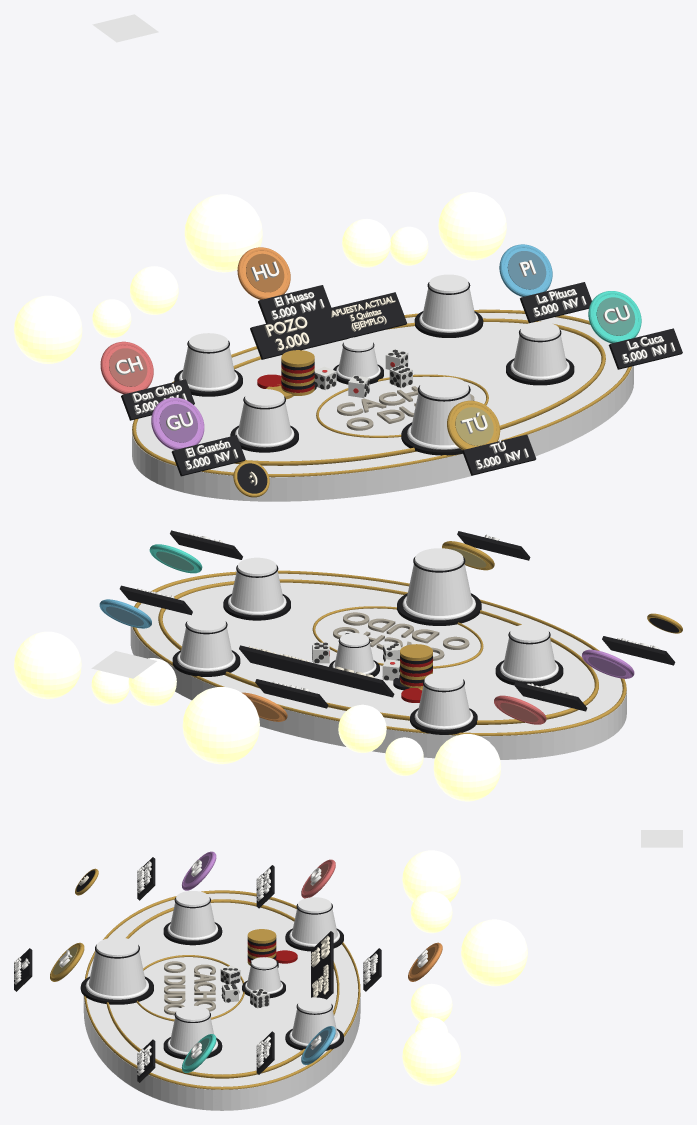
File: mesa_cacho.glb
3 views of the same model, one above another, from view 1: azimuth 30°, elevation 25°; view 2: azimuth 150°, elevation 25°; view 3: azimuth 270°, elevation 25° (orthographic). The views are drawn at different scales.
Parts seen in each view (by area): view 1: Pano, MesaMadera, Lampara2, PlacaPozo, Lampara0, Lampara4, Vaso_TU, Vaso_LaCuca, Vaso_ElGuaton, Vaso_LaPituca, Vaso_DonChalo, FileteDoradoPano (+23 smaller); view 2: Pano, MesaMadera, Lampara2, Lampara4, Lampara0, Vaso_TU, FileteDoradoBorde, FileteDoradoPano, Vaso_LaCuca, Vaso_DonChalo, Vaso_ElGuaton, Vaso_LaPituca (+27 smaller); view 3: Pano, MesaMadera, Lampara2, Lampara4, Vaso_TU, Lampara0, FileteDoradoBorde, Vaso_ElGuaton, Vaso_DonChalo, FileteDoradoPano, LogoCachoODudo, Vaso_LaPituca (+8 smaller).
Boxes of the visible parts, left/top/right/bottom form: Pano: left=192, top=322, right=601, bottom=461; MesaMadera: left=132, top=313, right=633, bottom=501; Lampara2: left=184, top=194, right=262, bottom=272; PlacaPozo: left=250, top=292, right=407, bottom=359; Lampara0: left=14, top=295, right=82, bottom=363; Lampara4: left=438, top=192, right=506, bottom=260; Vaso_TU: left=410, top=376, right=471, bottom=445; Vaso_LaCuca: left=513, top=322, right=566, bottom=376; Vaso_ElGuaton: left=238, top=389, right=291, bottom=443; Vaso_LaPituca: left=422, top=274, right=475, bottom=329; Vaso_DonChalo: left=182, top=333, right=235, bottom=387; FileteDoradoPano: left=233, top=318, right=605, bottom=465; Pano: left=162, top=582, right=594, bottom=720; MesaMadera: left=130, top=573, right=626, bottom=759; Lampara2: left=182, top=687, right=259, bottom=764; Lampara4: left=14, top=631, right=81, bottom=699; Lampara0: left=433, top=734, right=501, bottom=801; Vaso_TU: left=406, top=548, right=472, bottom=615; FileteDoradoBorde: left=132, top=570, right=626, bottom=735; FileteDoradoPano: left=158, top=579, right=598, bottom=724; Vaso_LaCuca: left=230, top=557, right=283, bottom=611; Vaso_DonChalo: left=417, top=672, right=470, bottom=725; Vaso_ElGuaton: left=503, top=624, right=555, bottom=677; Vaso_LaPituca: left=180, top=614, right=232, bottom=667; Pano: left=109, top=902, right=336, bottom=1074; MesaMadera: left=83, top=893, right=360, bottom=1110; Lampara2: left=461, top=919, right=527, bottom=986; Lampara4: left=402, top=1027, right=460, bottom=1085; Vaso_TU: left=88, top=937, right=145, bottom=995; Lampara0: left=402, top=850, right=460, bottom=902; FileteDoradoBorde: left=84, top=890, right=360, bottom=1089; Vaso_ElGuaton: left=170, top=891, right=215, bottom=937; Vaso_DonChalo: left=291, top=897, right=337, bottom=943; FileteDoradoPano: left=106, top=899, right=339, bottom=1078; LogoCachoODudo: left=164, top=961, right=215, bottom=1015; Vaso_LaPituca: left=291, top=997, right=337, bottom=1043.
Size of what is drawn, in the model's own units: 11.8 by 4.55 by 15.97.
